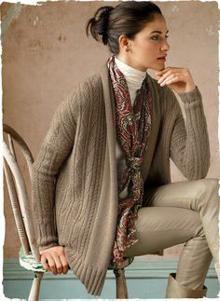C_cardigan sweater: (28, 61, 220, 271)
